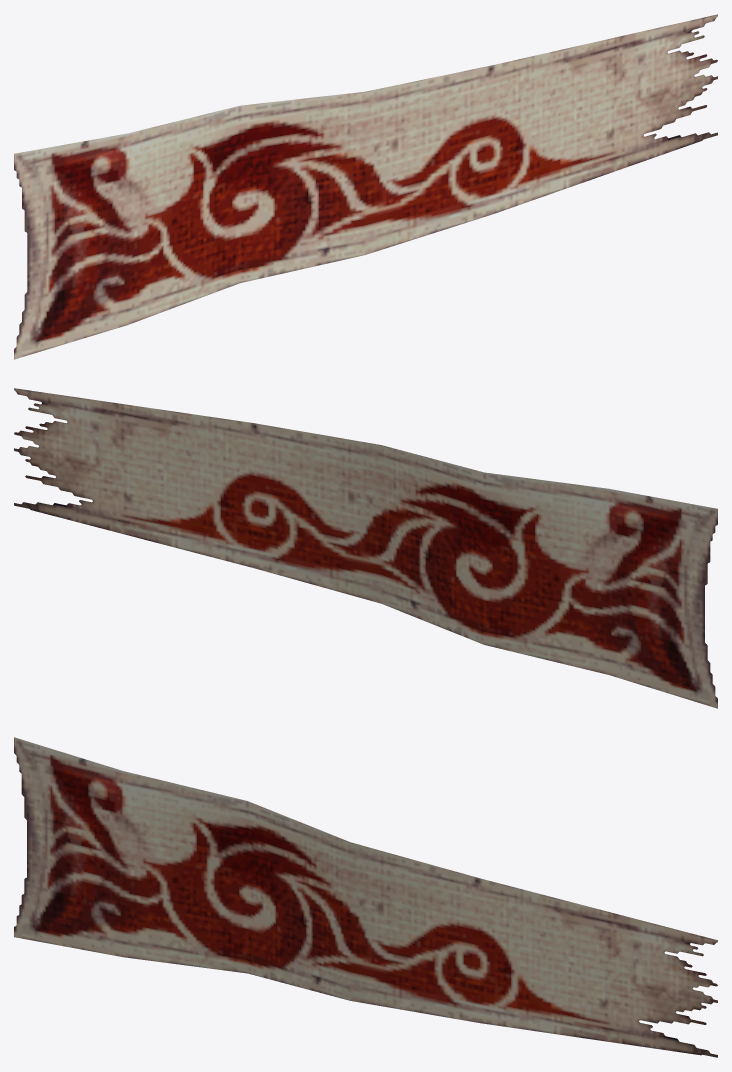
File: Flag5.obj
3 views of the same model, one above another, from view 1: azimuth 30°, elevation 25°; view 2: azimuth 150°, elevation 25°; view 3: azimuth 330°, elevation 25° (orthographic). The views are drawn at different scales.
Size of the model in its own units: 119 by 32.87 by 3.72.
